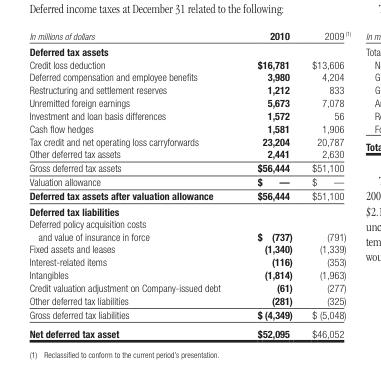table: (28, 28, 350, 339)
table column: (28, 28, 238, 339), (238, 28, 301, 339), (301, 28, 350, 339)
table column header: (28, 28, 350, 42)
table projected row header: (28, 42, 350, 57), (28, 203, 350, 217)
table row: (28, 217, 350, 242), (28, 307, 350, 323), (28, 323, 350, 339), (28, 42, 350, 57), (28, 188, 350, 203), (28, 28, 350, 42), (28, 160, 350, 174), (28, 174, 350, 188), (28, 203, 350, 217), (28, 293, 350, 307), (28, 57, 350, 70), (28, 70, 350, 83), (28, 95, 350, 108), (28, 108, 350, 121), (28, 121, 350, 134), (28, 134, 350, 147), (28, 147, 350, 160), (28, 242, 350, 255), (28, 267, 350, 280), (28, 280, 350, 293), (28, 83, 350, 95), (28, 255, 350, 267)
